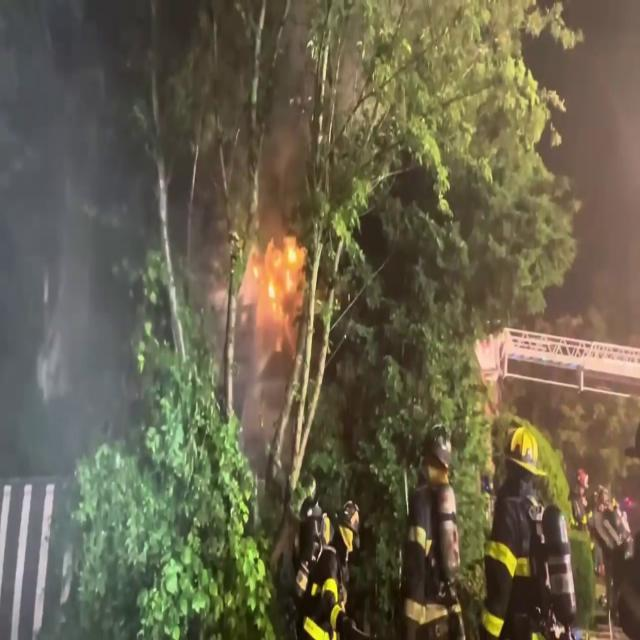Fire: (244, 219, 308, 319)
Smoke: (0, 0, 152, 449)
